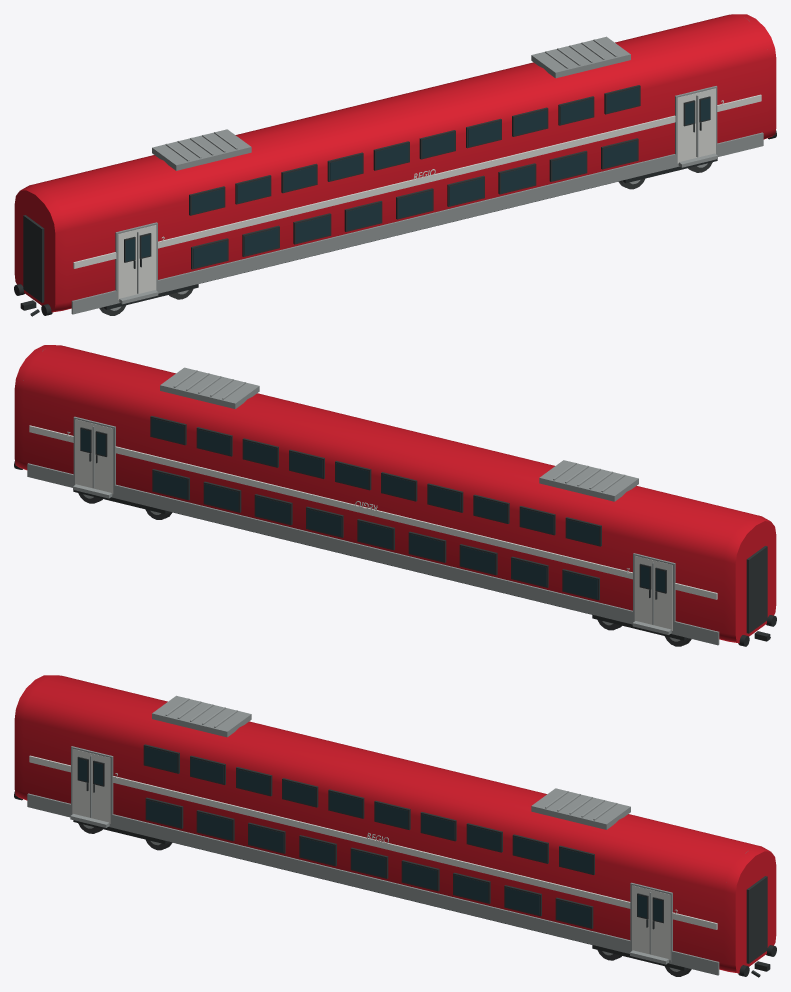
File: db-regional-express-second-class.glb
3 views of the same model, one above another, from view 1: azimuth 30°, elevation 25°; view 2: azimuth 150°, elevation 25°; view 3: azimuth 330°, elevation 25° (orthographic).
Parts seen in each view (by area): view 1: second_class_double_deck_body, second_class_lower_skirt_-1, second_class_white_belt_-1, second_class_roof_hvac_0, second_class_roof_hvac_1, second_class_door_-1_1, second_class_door_-1_0, second_class_gangway_-1, second_class_lower_window_-1_7, second_class_lower_window_-1_1, second_class_lower_window_-1_3, second_class_lower_window_-1_5 (+15 smaller); view 2: second_class_double_deck_body, second_class_lower_skirt_1, second_class_white_belt_1, second_class_roof_hvac_1, second_class_roof_hvac_0, second_class_door_1_1, second_class_door_1_0, second_class_gangway_-1, second_class_lower_window_1_0, second_class_lower_window_1_1, second_class_lower_window_1_4, second_class_lower_window_1_5 (+17 smaller); view 3: second_class_double_deck_body, second_class_lower_skirt_-1, second_class_white_belt_-1, second_class_roof_hvac_1, second_class_roof_hvac_0, second_class_door_-1_1, second_class_door_-1_0, second_class_gangway_1, second_class_lower_window_-1_2, second_class_lower_window_-1_3, second_class_lower_window_-1_4, second_class_lower_window_-1_6 (+15 smaller).
Boxes of the visible parts, x1,y1,x2,y2 form: second_class_double_deck_body: [14, 14, 776, 312]; second_class_lower_skirt_-1: [71, 132, 763, 314]; second_class_white_belt_-1: [73, 94, 761, 268]; second_class_roof_hvac_0: [152, 129, 251, 170]; second_class_roof_hvac_1: [531, 36, 630, 78]; second_class_door_-1_1: [677, 88, 715, 163]; second_class_door_-1_0: [118, 225, 156, 299]; second_class_gangway_-1: [23, 215, 44, 302]; second_class_lower_window_-1_7: [552, 153, 586, 180]; second_class_lower_window_-1_1: [244, 228, 278, 255]; second_class_lower_window_-1_3: [347, 203, 381, 230]; second_class_lower_window_-1_5: [449, 178, 483, 205]; second_class_double_deck_body: [14, 345, 776, 643]; second_class_lower_skirt_1: [27, 463, 719, 645]; second_class_white_belt_1: [29, 425, 717, 599]; second_class_roof_hvac_1: [160, 367, 259, 409]; second_class_roof_hvac_0: [539, 460, 638, 501]; second_class_door_1_1: [75, 419, 113, 494]; second_class_door_1_0: [634, 556, 672, 630]; second_class_gangway_-1: [746, 546, 767, 633]; second_class_lower_window_1_0: [563, 572, 597, 598]; second_class_lower_window_1_1: [512, 559, 546, 585]; second_class_lower_window_1_4: [358, 521, 392, 548]; second_class_lower_window_1_5: [307, 509, 341, 535]; second_class_double_deck_body: [14, 675, 776, 973]; second_class_lower_skirt_-1: [27, 793, 719, 975]; second_class_white_belt_-1: [29, 755, 717, 929]; second_class_roof_hvac_1: [531, 788, 630, 829]; second_class_roof_hvac_0: [152, 695, 251, 737]; second_class_door_-1_1: [632, 885, 670, 960]; second_class_door_-1_0: [72, 748, 110, 823]; second_class_gangway_1: [746, 876, 767, 963]; second_class_lower_window_-1_2: [249, 825, 283, 851]; second_class_lower_window_-1_3: [300, 838, 334, 864]; second_class_lower_window_-1_4: [351, 850, 385, 877]; second_class_lower_window_-1_6: [454, 875, 488, 902].
Size of the model in its own units: 27.74 by 4.86 by 3.35.
